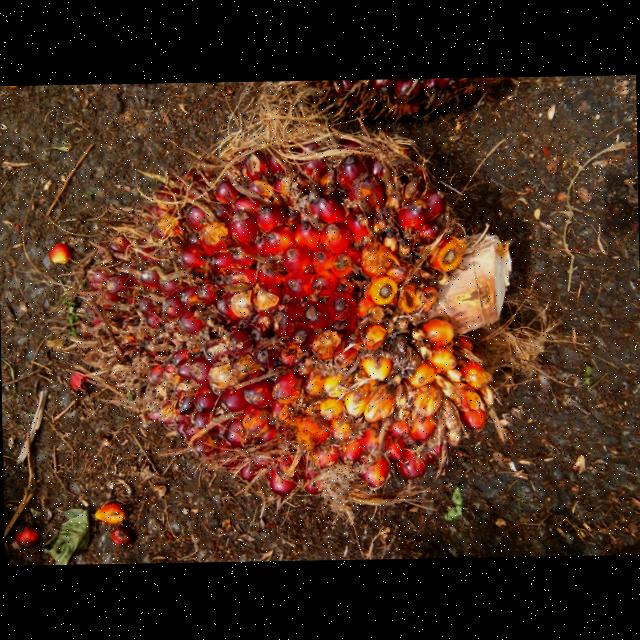Ripe: (76, 132, 495, 505)
